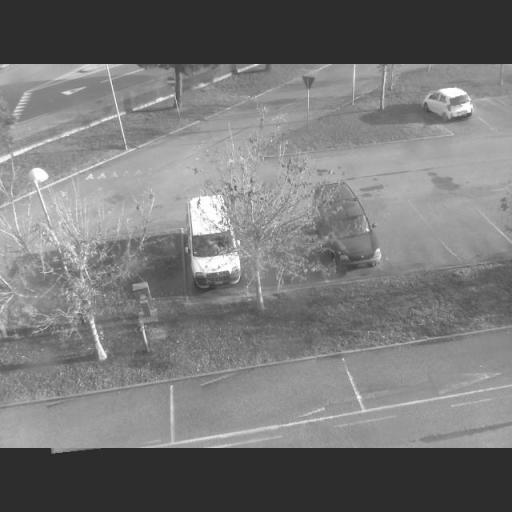busy: (305, 187, 383, 272), (420, 87, 476, 124)
free: (202, 364, 323, 428), (47, 394, 159, 451), (378, 201, 424, 276), (443, 199, 488, 262), (477, 92, 505, 132)
